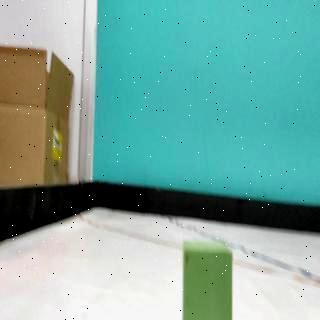greenbox: (183, 240, 232, 320)
